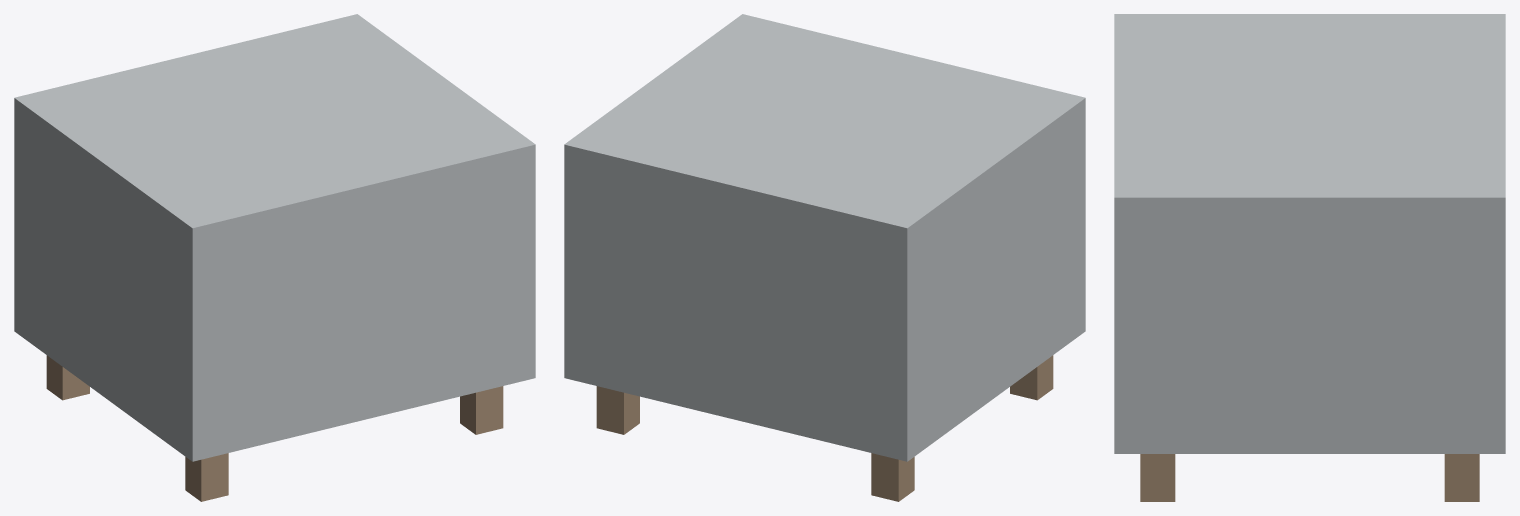
The model's file is ottoman.glb.
3 renders of one model, left to right at view 1: azimuth 30°, elevation 25°; view 2: azimuth 150°, elevation 25°; view 3: azimuth 270°, elevation 25°, orthographic. The views are drawn at different scales.
Parts seen in each view (by area): view 1: cushion, leg (×3); view 2: cushion, leg (×3); view 3: cushion, leg (×2).
Boxes of the visible parts, <box> form: cushion: <box>14,14,535,461</box>; leg (×3): <box>46,355,503,501</box>; cushion: <box>564,14,1085,461</box>; leg (×3): <box>596,355,1053,501</box>; cushion: <box>1114,14,1505,453</box>; leg (×2): <box>1140,454,1479,501</box>.
Bounding box in the file's own units: 0.508 × 0.4064 × 0.4572.
